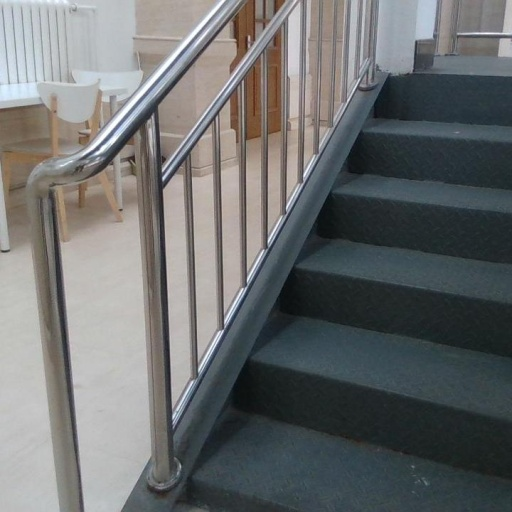Stairs: (174, 57, 512, 512)
